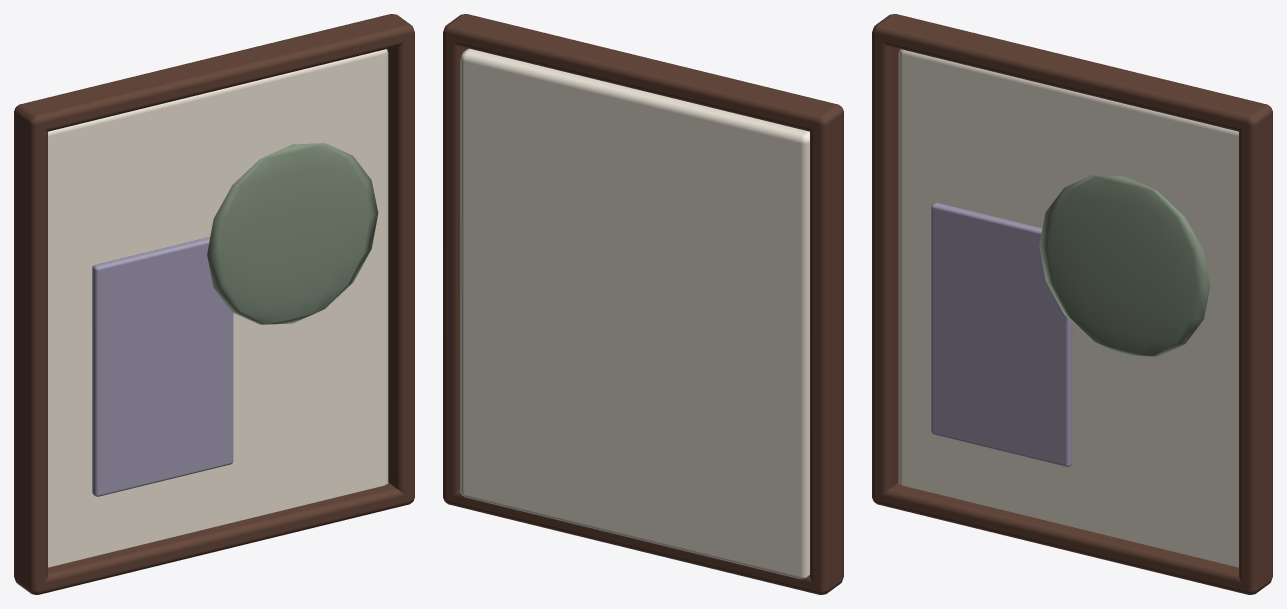
File: suite_art_abstract.glb
3 renders of one model, left to right at view 1: azimuth 30°, elevation 25°; view 2: azimuth 150°, elevation 25°; view 3: azimuth 330°, elevation 25°, orthographic.
Bounding box in the file's own units: 0.945 × 1.12 × 0.1205.
